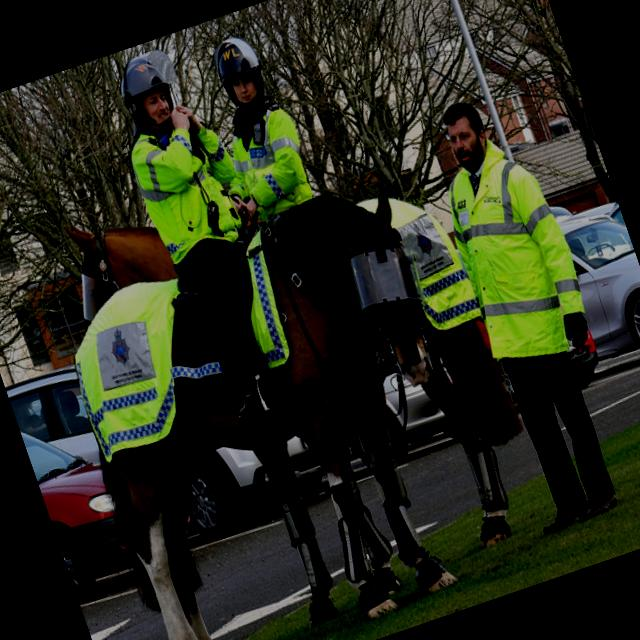Vehicle: (16, 399, 146, 606), (169, 409, 335, 544), (551, 201, 640, 375), (6, 367, 107, 482), (374, 363, 452, 460), (560, 328, 606, 390), (602, 194, 634, 255), (570, 199, 618, 225)
